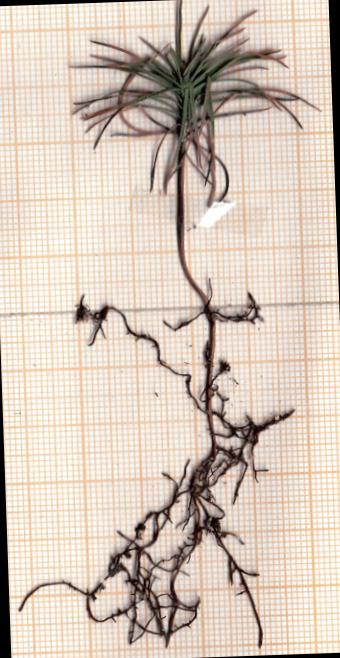flower: (66, 0, 327, 213)
root: (6, 288, 340, 658)
stem: (172, 168, 210, 300)
